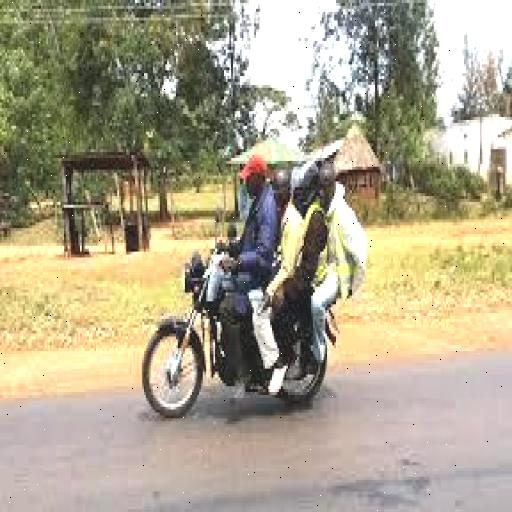no helmet: (236, 150, 272, 248)
triple riding: (135, 117, 386, 442)
